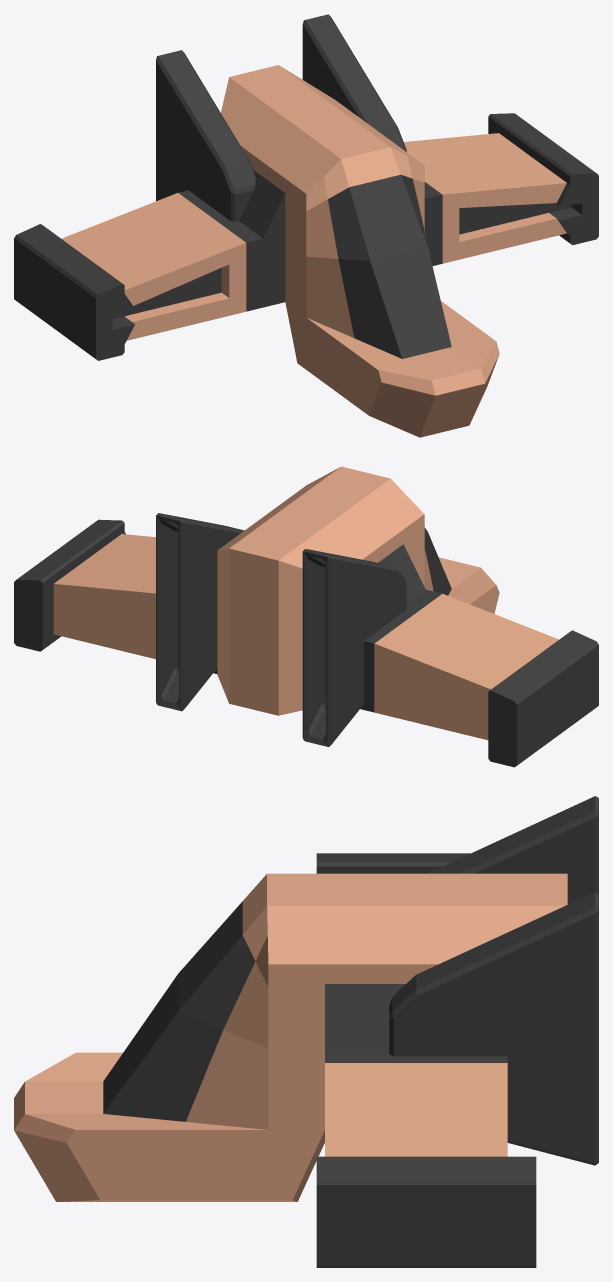
The model's file is Ship5.fbx.
The picture shows the model from 3 angles, top to bottom: view 1: azimuth 30°, elevation 25°; view 2: azimuth 150°, elevation 25°; view 3: azimuth 270°, elevation 25°; orthographic projection. The views are drawn at different scales.
Parts seen in each view (by area): view 1: ArmorPlate.004, Wing.004, Jet.004; view 2: Wing.004, ArmorPlate.004, Jet.004; view 3: ArmorPlate.004, Wing.004, Jet.004.
Part boxes in pixels (x1,y1,x2,y2): ArmorPlate.004: (221,65,499,437); Wing.004: (14,113,598,360); Jet.004: (156,14,406,221); Wing.004: (14,519,598,767); ArmorPlate.004: (217,466,499,715); Jet.004: (156,513,406,746); ArmorPlate.004: (14,873,567,1201); Wing.004: (316,853,536,1267); Jet.004: (389,796,598,1165).
Bounding box in the file's own units: 852 × 404 × 640.
